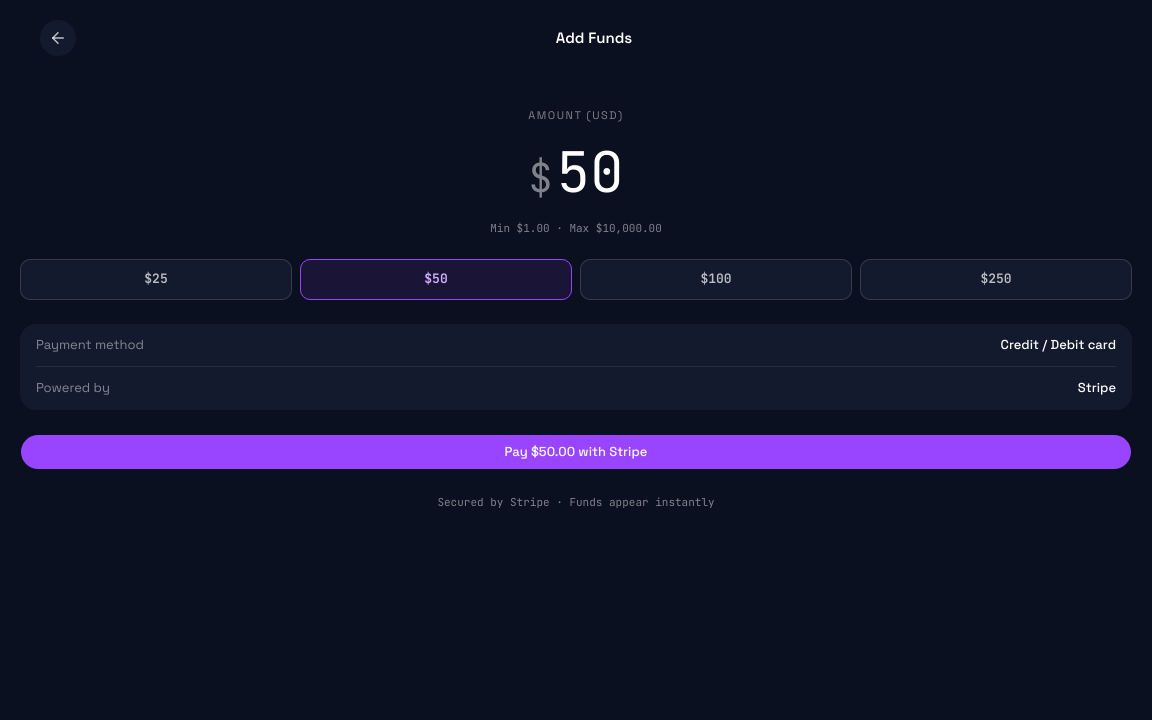
Test: AddFundsPage › should only allow numeric and decimal input
Step 1. Clear the field named "Amount in USD" → coordinates (590, 172), box [556, 135, 624, 209]
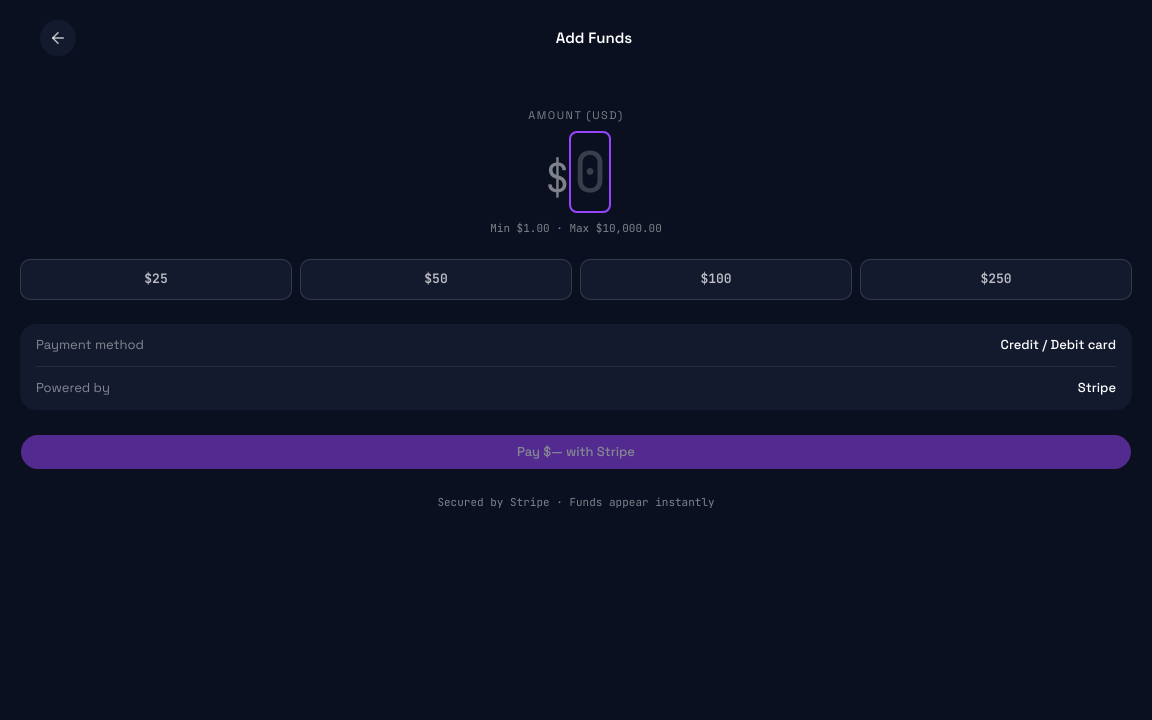
Step 2. Type "abc123.45" into the field named "Amount in USD" → coordinates (590, 172), box [573, 135, 607, 209]
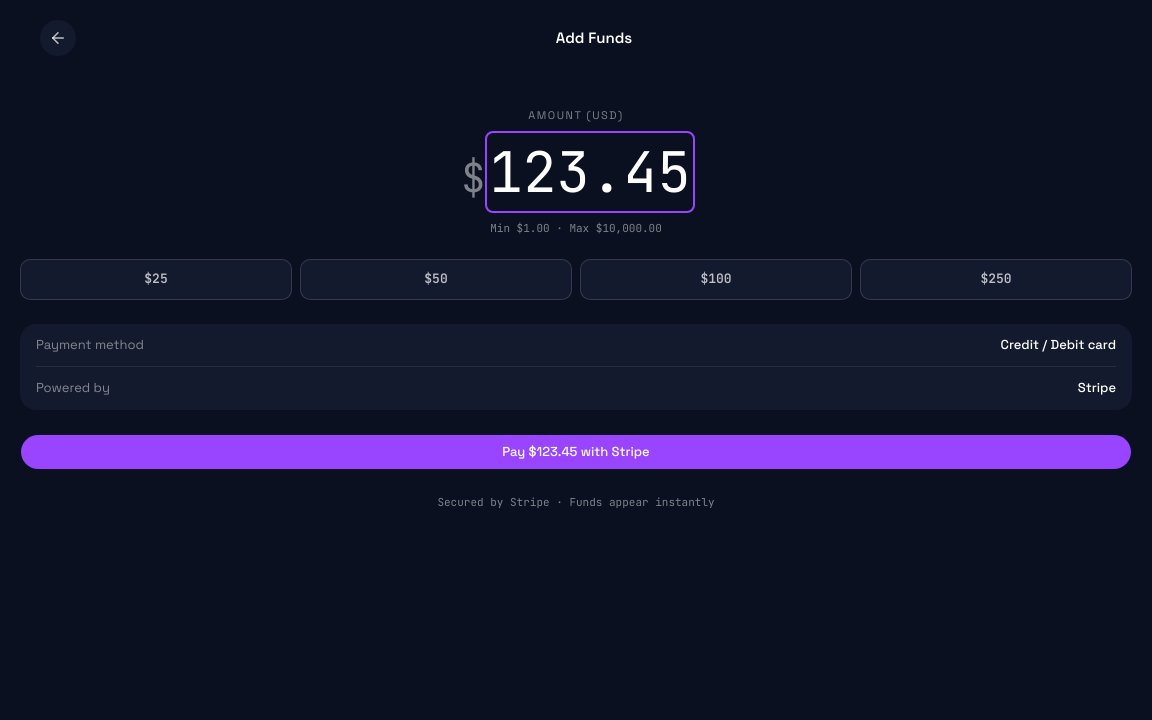
Now the field named "Amount in USD" holds "123.45", box [489, 135, 691, 209]
